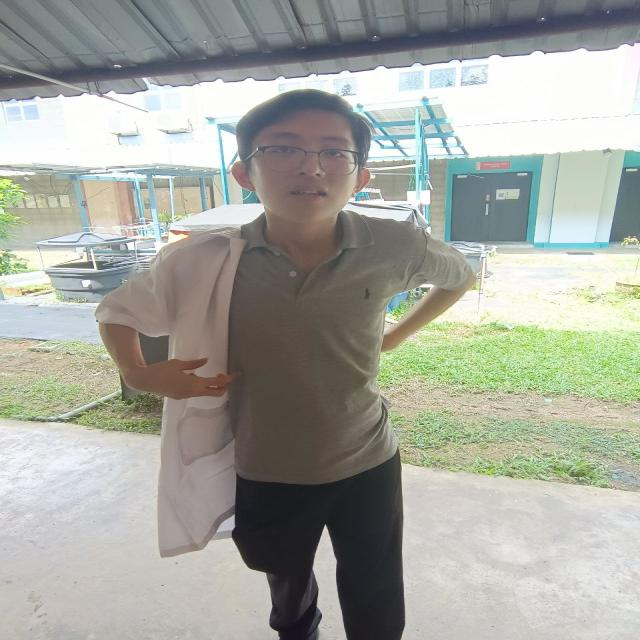person_without_labcoat: (96, 90, 471, 640)
